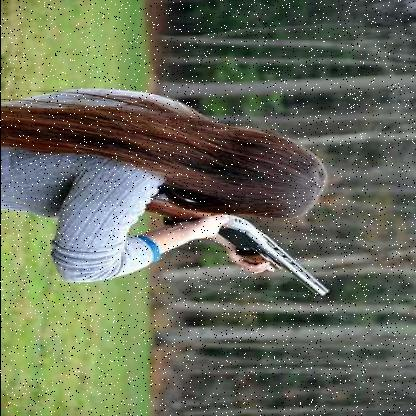rifle: (135, 194, 331, 304)
